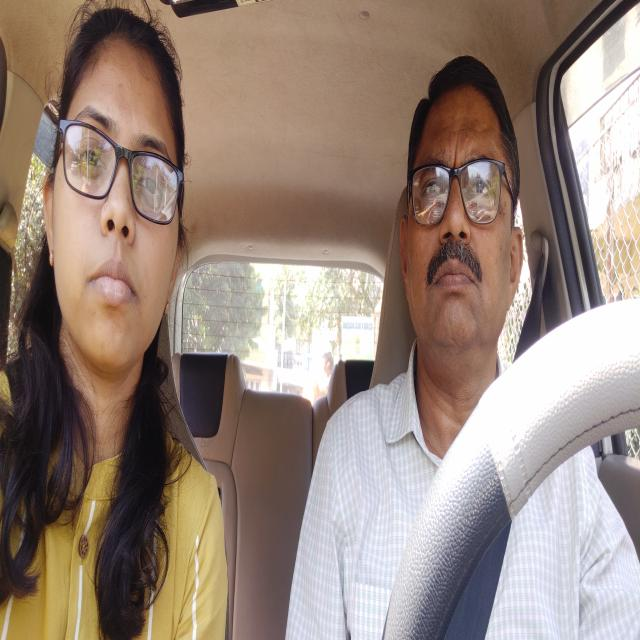person: (41, 7, 187, 379), (396, 53, 526, 370)
